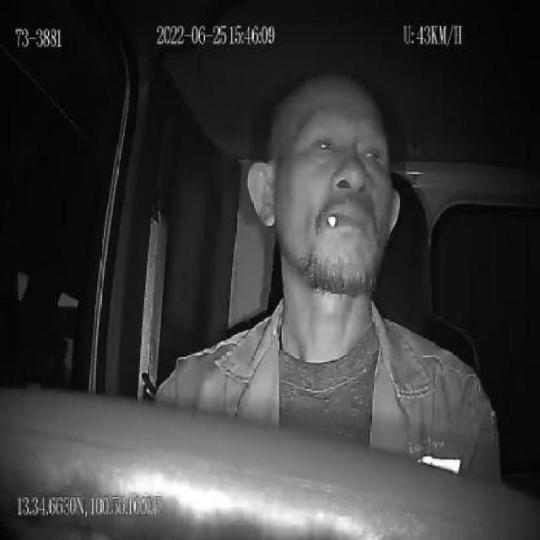smoking: (328, 211, 344, 228)
